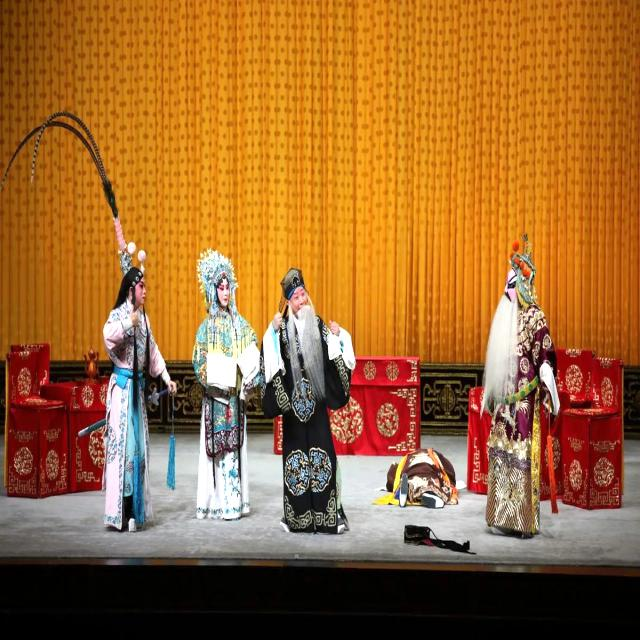Reeves-s Pheasant: (0, 110, 118, 218)
